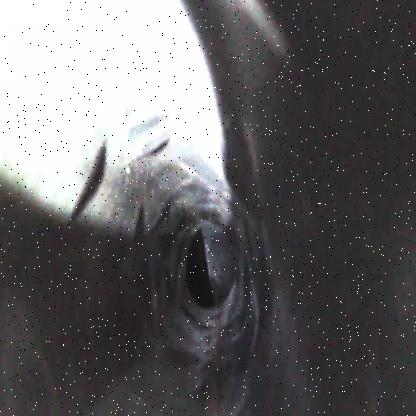Crack: (131, 160, 269, 376)
